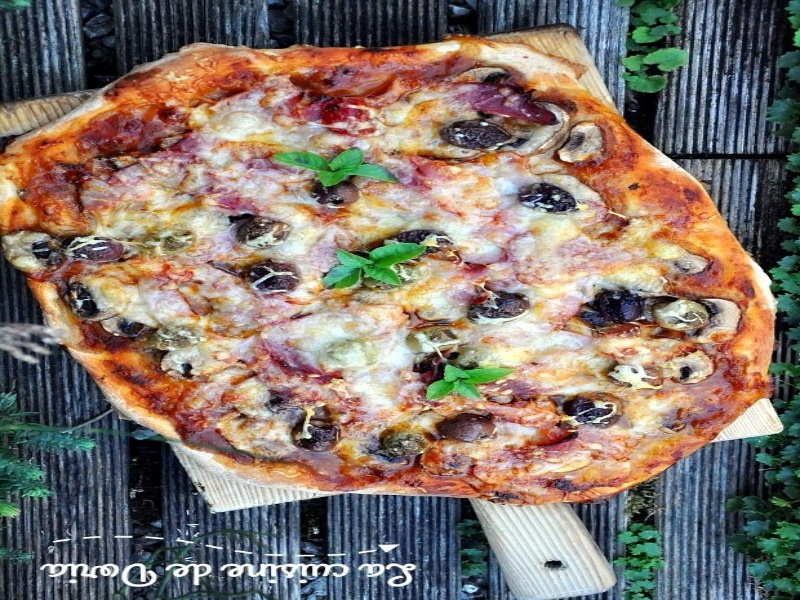champignon: (554, 118, 609, 175)
